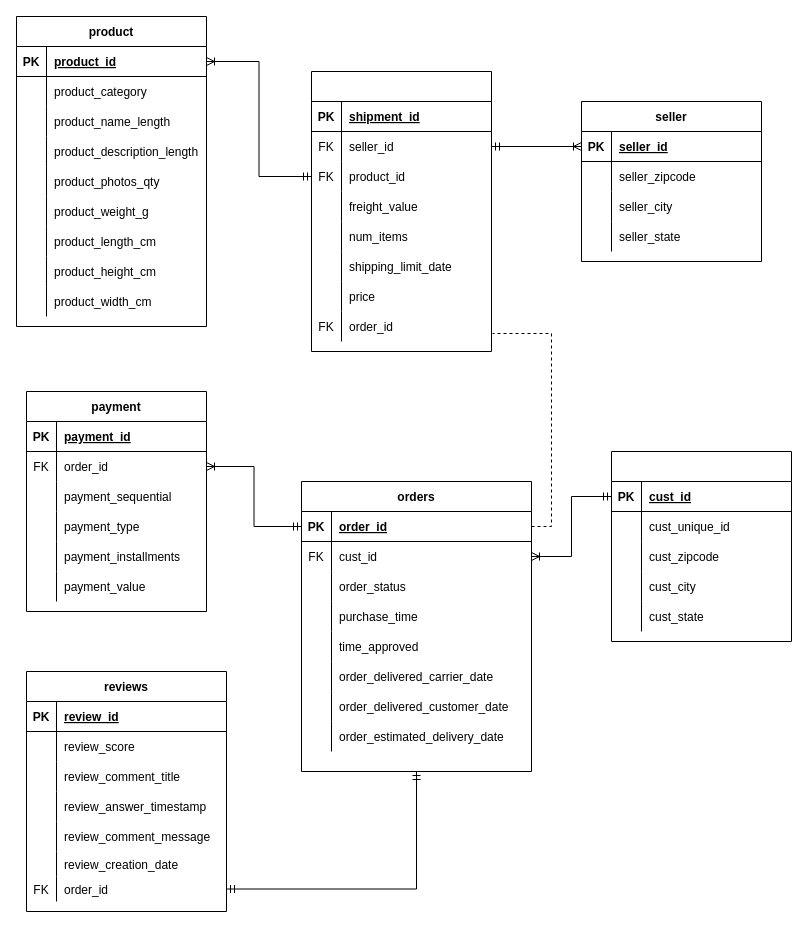
This 808x928 diagram has some shape labels left out. The box of each missing label's shape, as (x1, y1, x2, y2) in pixels:
customer: (610, 450, 792, 642)
shipment_data: (310, 70, 492, 352)
